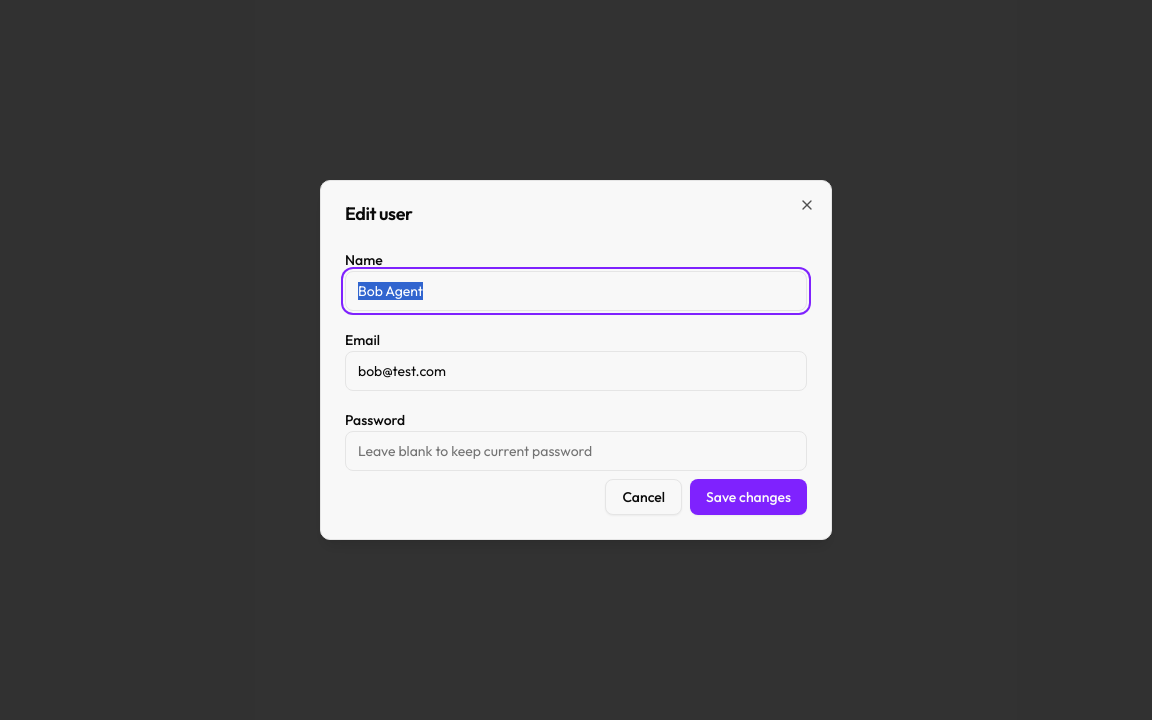
Test case: UserDialog — edit mode › shows a password error when an invalid password is entered
Type "short" into the password field labelled "Password" at x=576, y=451, box [345,431,807,471]
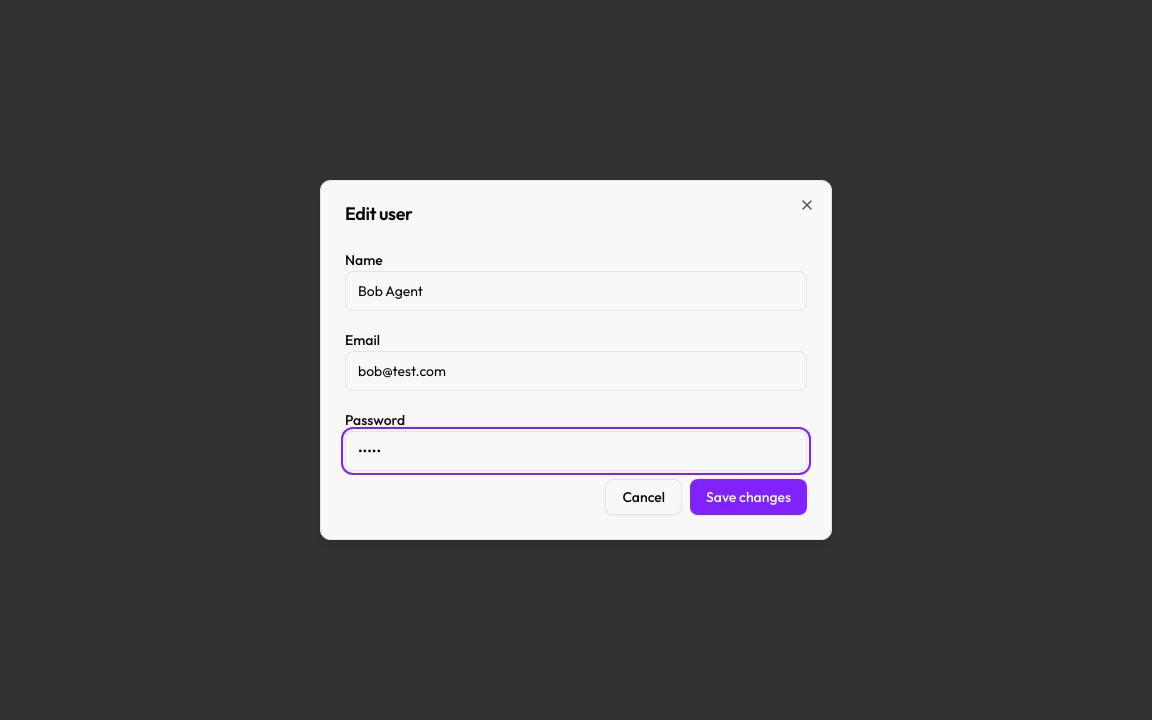
Click the button "Save changes" at x=749, y=497, box [690,479,807,515]
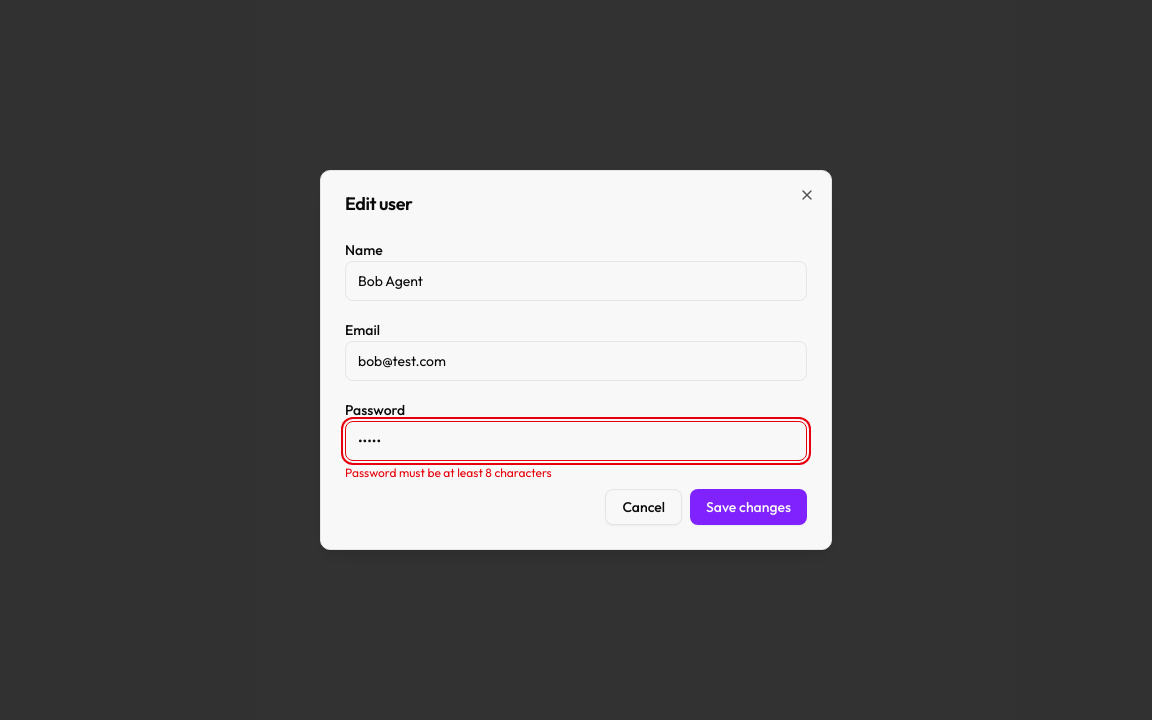
Check: the text "Password must be at least 8 characters" is shown, box [345,465,552,480]
